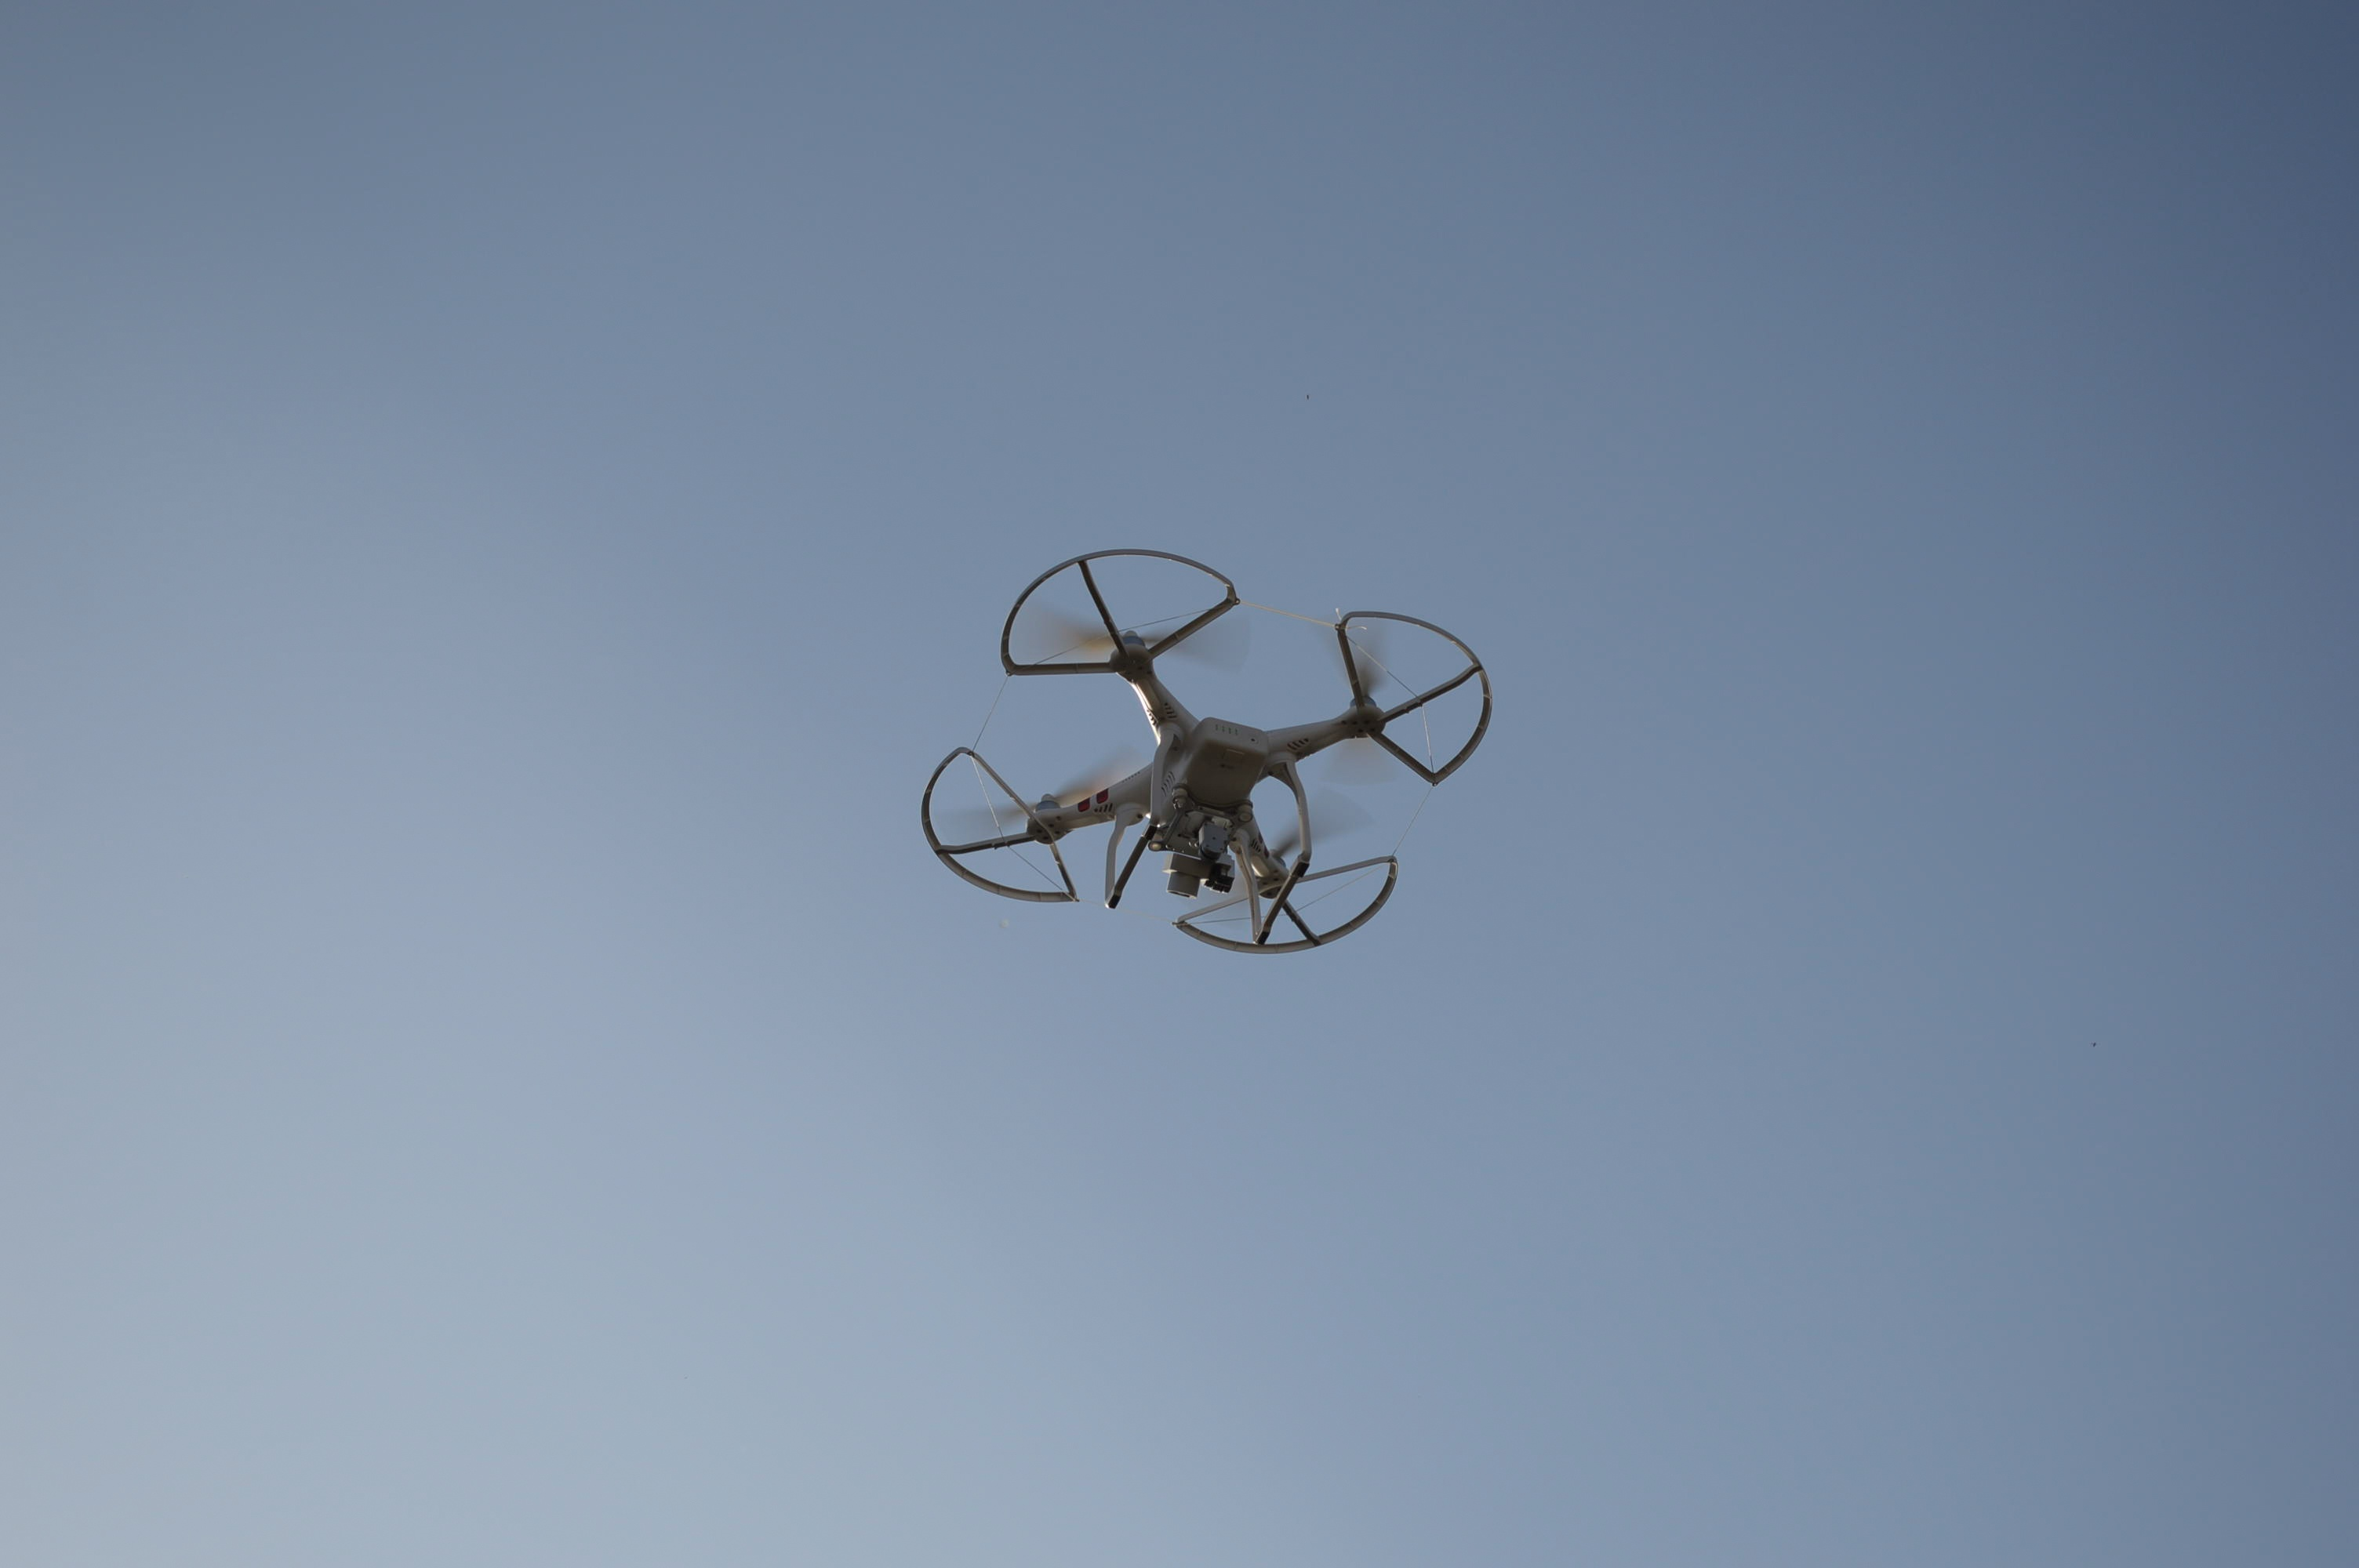DJI: (915, 549, 1501, 961)
